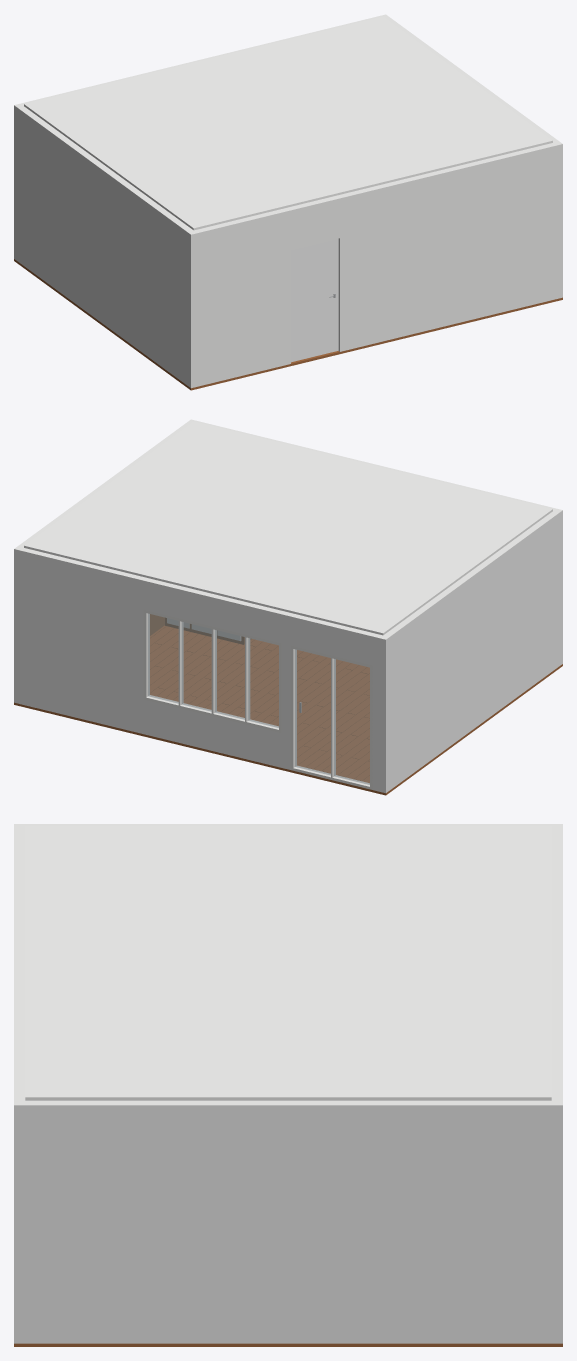
The picture shows the model from 3 angles, top to bottom: view 1: azimuth 30°, elevation 25°; view 2: azimuth 150°, elevation 25°; view 3: azimuth 270°, elevation 25°; orthographic projection. The views are drawn at different scales.
Parts seen in each view (by area): view 1: Ceiling, Wall_S, Wall_W, Door, Wall_E, Floor, Wall_N; view 2: Ceiling, Wall_N, Wall_W, Floor, Window_N, Door_Balcony, Wall_E, Kitchen_Base, Wall_S; view 3: Ceiling, Wall_E, Wall_N, Wall_S, Floor, Wall_W.
Boxes of the visible parts, x1,y1,x2,y2 form: Ceiling: (24,16,552,230); Wall_S: (194,143,556,386); Wall_W: (14,103,197,388); Door: (291,238,338,362); Wall_E: (380,14,562,298); Floor: (14,259,562,390); Wall_N: (21,16,380,105); Ceiling: (24,421,552,635); Wall_N: (20,548,382,791); Wall_W: (379,508,562,793); Floor: (14,625,562,795); Window_N: (143,610,281,732); Door_Balcony: (290,646,372,789); Wall_E: (14,419,196,703); Kitchen_Base: (150,614,251,644); Wall_S: (196,421,555,510); Ceiling: (25,825,551,1100); Wall_E: (14,1100,562,1343); Wall_N: (551,829,562,1100); Wall_S: (14,829,25,1100); Floor: (14,1343,562,1346); Wall_W: (14,824,562,828).
Size of the model in its own units: 6.95 by 2.82 by 5.73.
